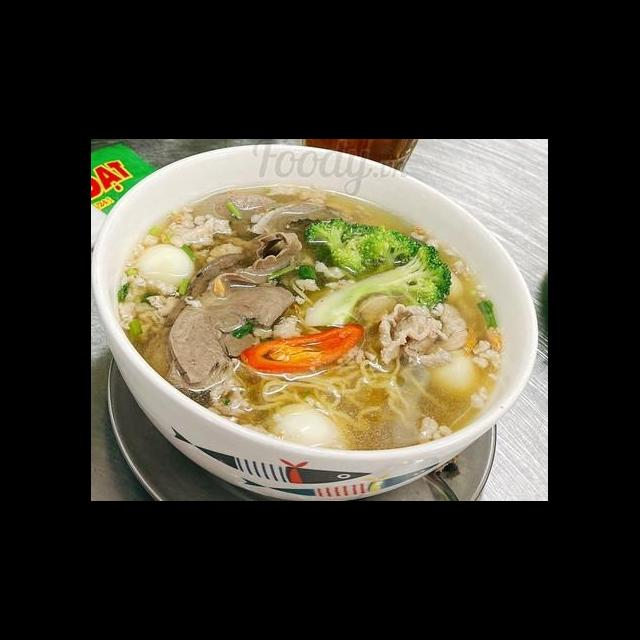banh hu tieu: (230, 349, 450, 434)
hu tieu: (94, 171, 543, 497)
thit bam: (110, 262, 182, 344), (140, 204, 234, 253), (284, 259, 360, 310), (463, 335, 508, 413), (412, 413, 452, 445)
thit heo: (392, 296, 472, 371), (374, 301, 446, 367)
trung: (132, 240, 200, 295)
